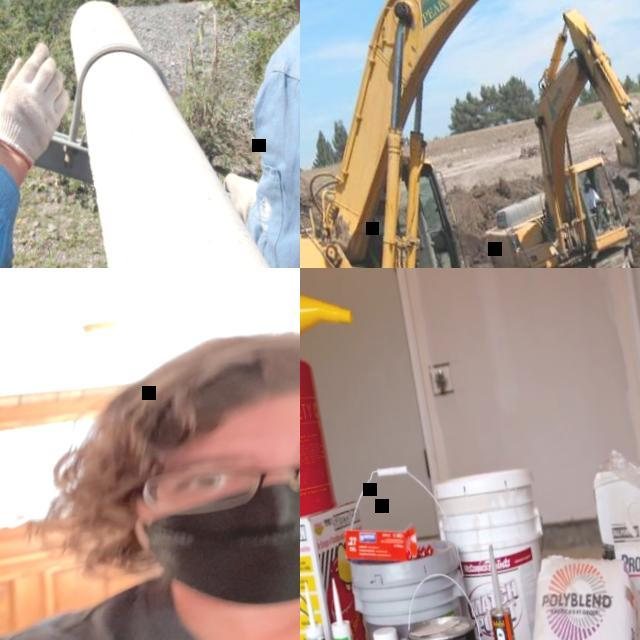Weapon: (38, 287, 298, 640)
